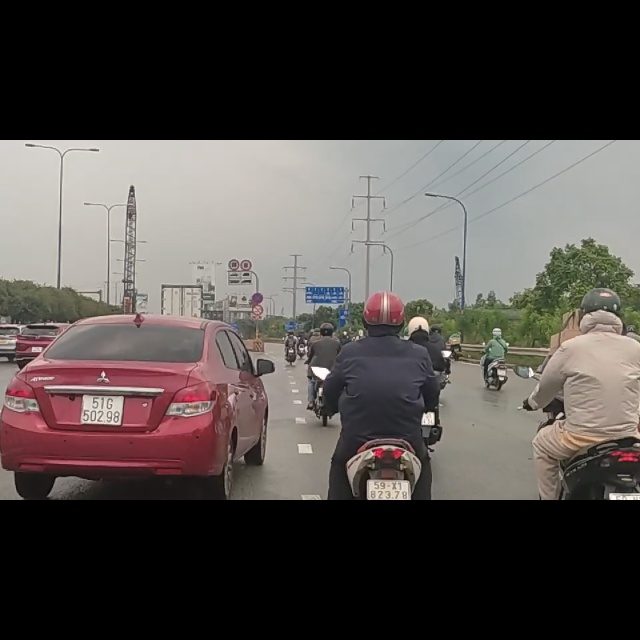bien_cam: (251, 270, 263, 291)
